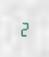two: (19, 19, 27, 37)
